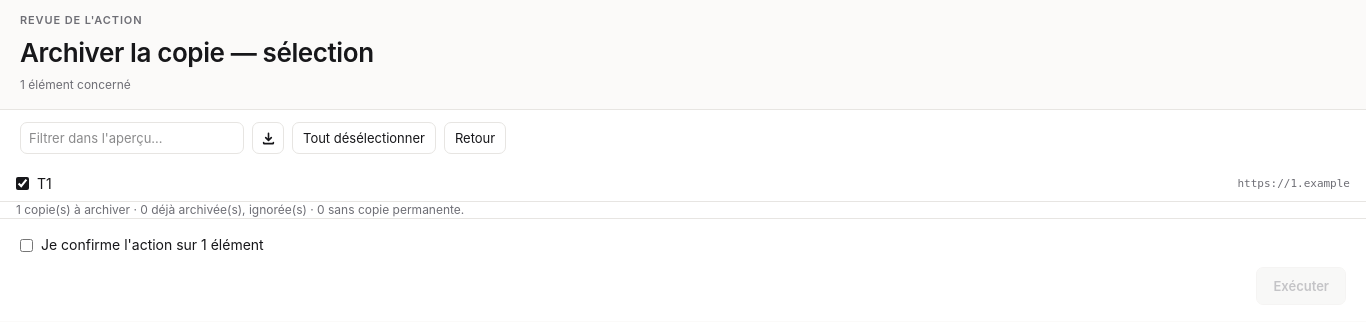
Test case: ReviewPage — archivage des copies permanentes › des échecs : la Revue tient, le bilan se lit
Click the checkbox labelled "Je confirme l'action sur 1 élément": (26, 245) [20,238,33,252]
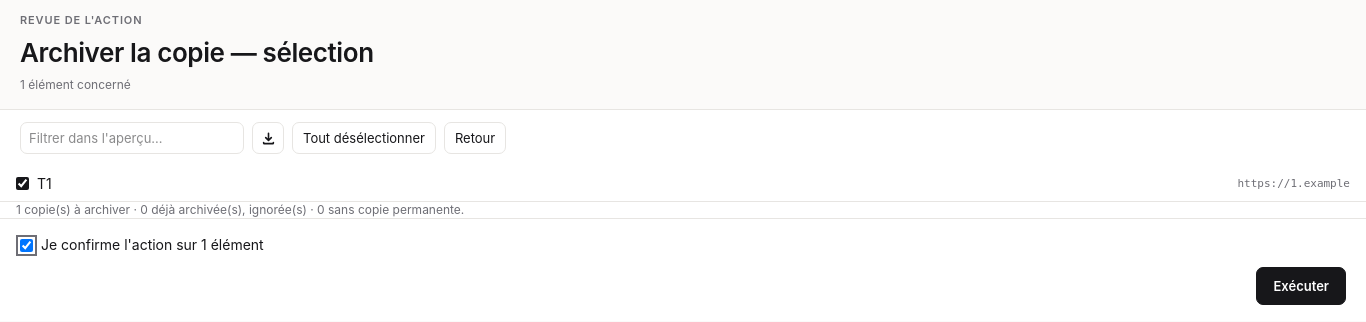
Click the button "Exécuter": (1301, 286) [1256,267,1346,305]
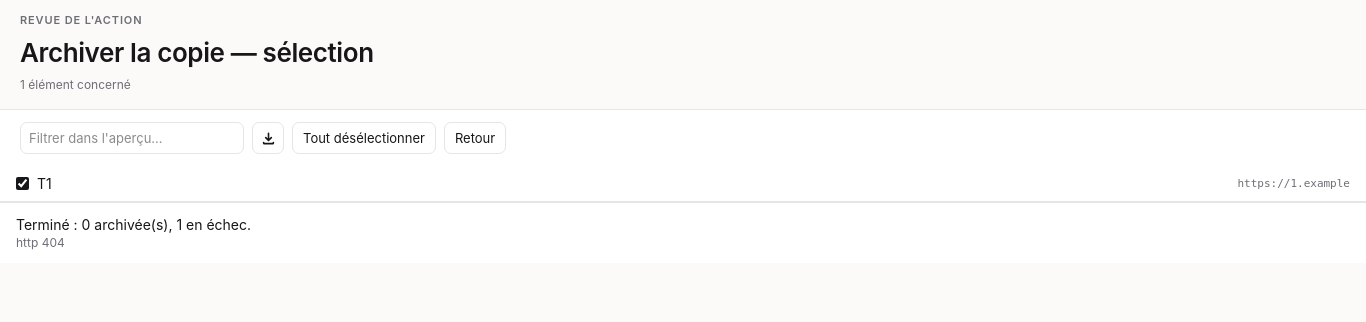
Now the text "Terminé : 0 archivée(s), 1 en échec. http 404" is shown, box [16,216,251,250]
Now the text "http 404" is shown, box [16,235,65,250]
